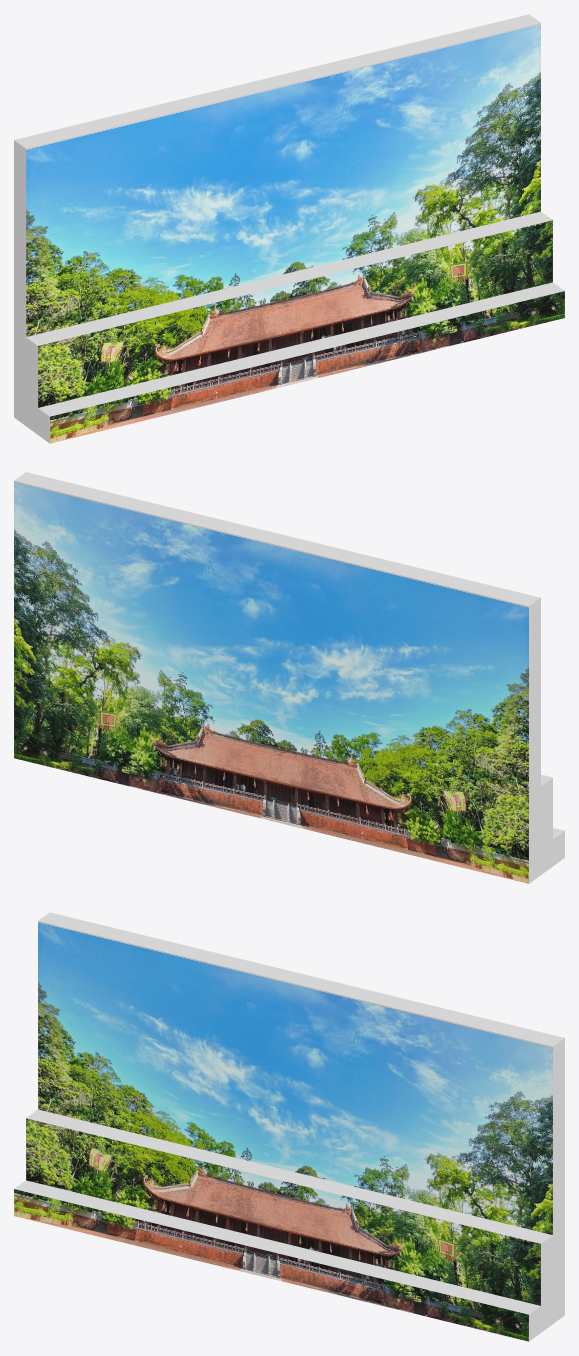
File: LamKinh.glb
3 views of the same model, one above another, from view 1: azimuth 30°, elevation 25°; view 2: azimuth 150°, elevation 25°; view 3: azimuth 330°, elevation 25° (orthographic).
Parts seen in each view (by area): view 1: LamKinh; view 2: LamKinh; view 3: LamKinh.
Part boxes in pixels (x1,y1,x2,y2): LamKinh: [14, 14, 564, 443]; LamKinh: [14, 472, 564, 883]; LamKinh: [14, 912, 564, 1341].
Size of the model in its own units: 5.38 by 2.77 by 0.649.
Materials: 1 (1 with a texture image).
